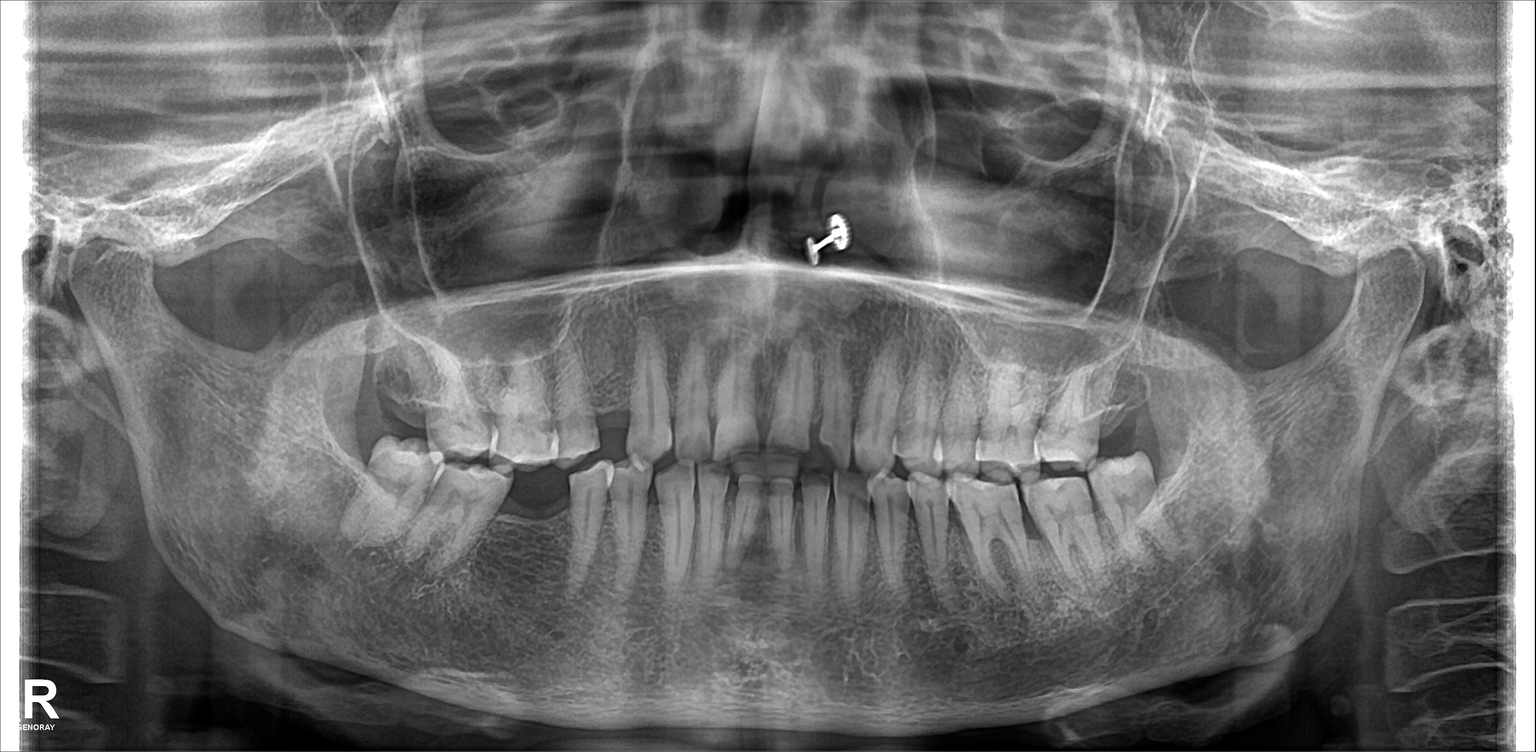Missing Tooth: (514, 478, 565, 566), (358, 356, 417, 429), (587, 372, 632, 450), (1106, 374, 1153, 439)
